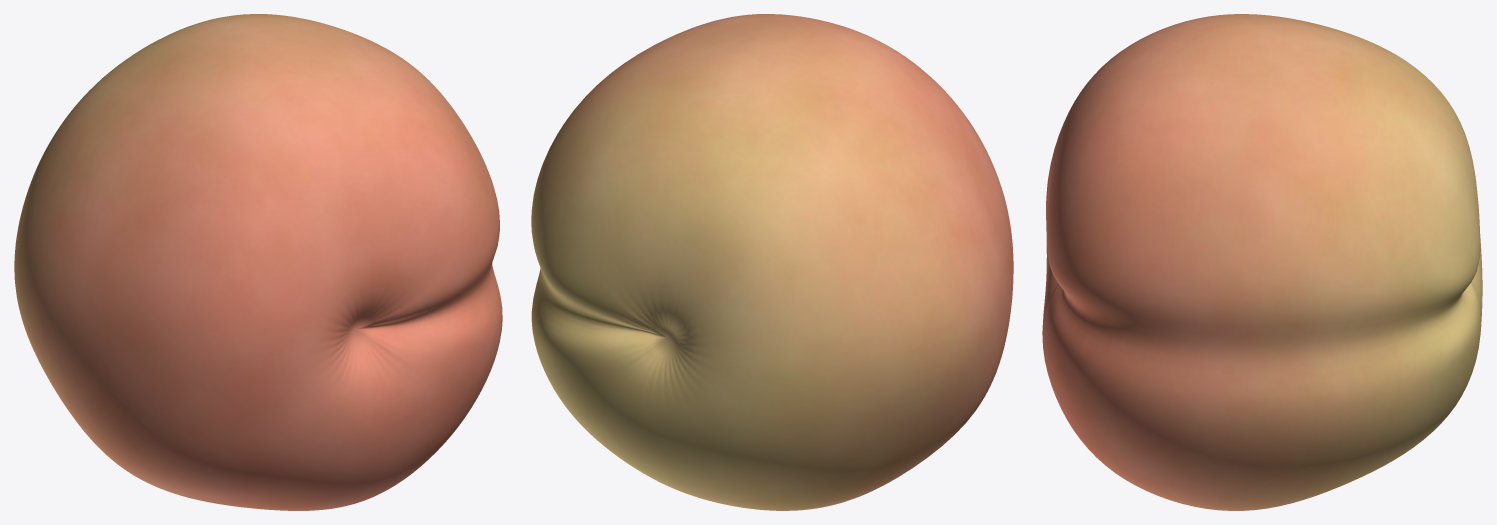
3 views of the same model, side by side, from view 1: azimuth 30°, elevation 25°; view 2: azimuth 150°, elevation 25°; view 3: azimuth 270°, elevation 25° (orthographic).
Bounding box in the file's own units: 0.9824 × 1 × 0.8908.
Materials: 1 (1 with a texture image).
